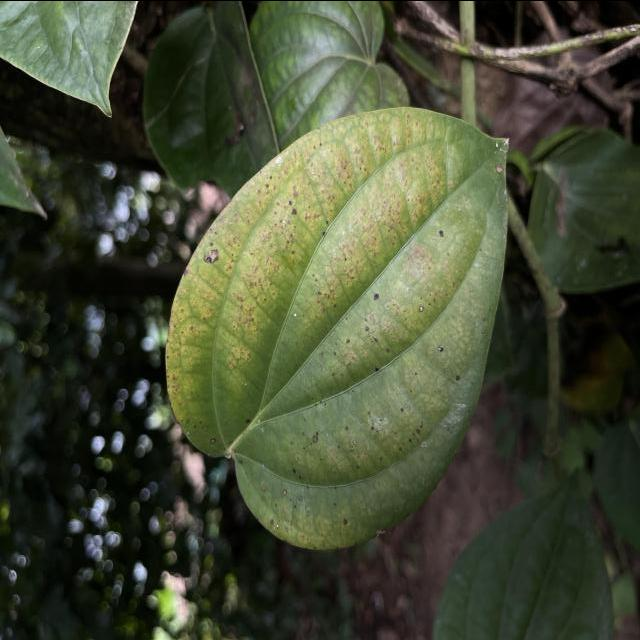Piper nigrum: (163, 103, 511, 552)
